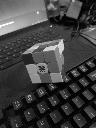rubik: (21, 39, 67, 83)
